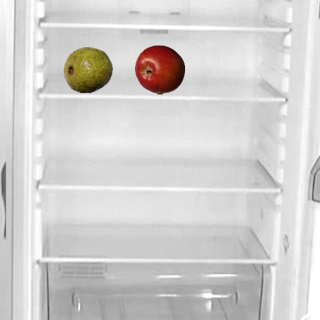Apple Braeburn: (134, 44, 184, 94)
Guava: (62, 44, 112, 94)
